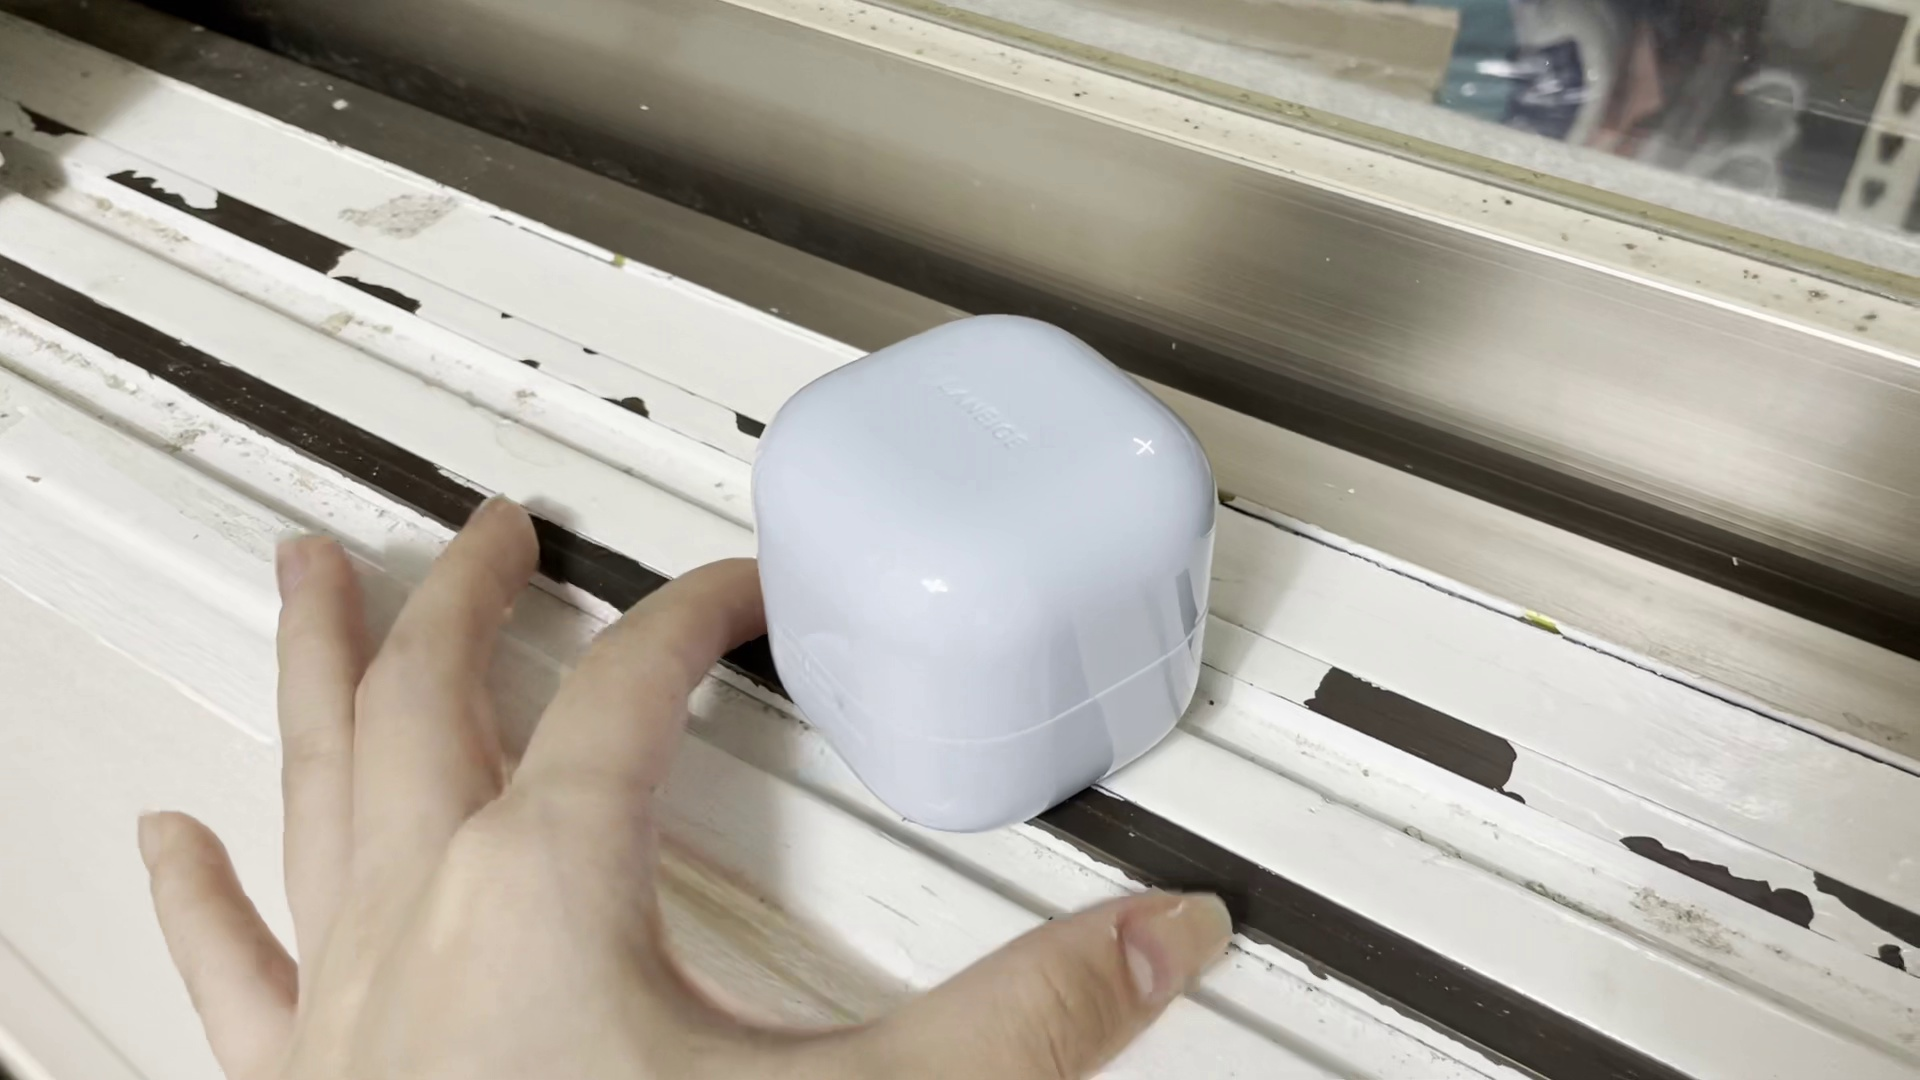cream: (750, 309, 1215, 831)
